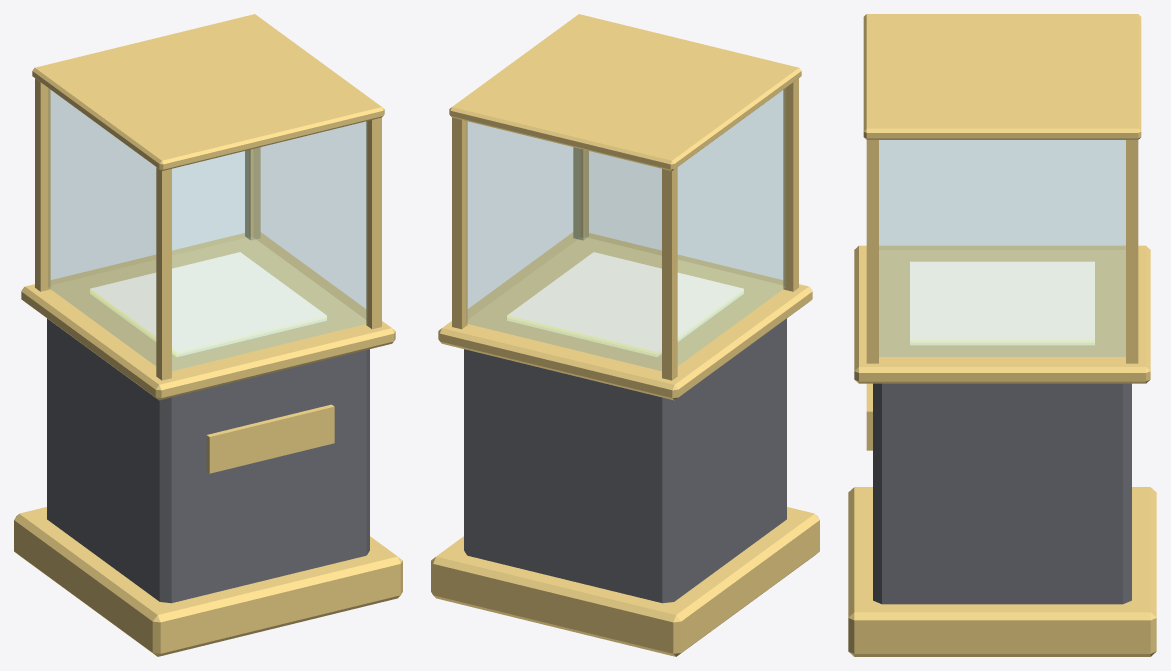
Rendered from lt_trophy_cr.glb.
3 views of the same model, side by side, from view 1: azimuth 30°, elevation 25°; view 2: azimuth 150°, elevation 25°; view 3: azimuth 270°, elevation 25° (orthographic). The views are drawn at different scales.
Visible parts, largest first — view 1: lt_trophy_cr; view 2: lt_trophy_cr; view 3: lt_trophy_cr.
Boxes of the visible parts, <box> form: lt_trophy_cr: <box>14,14,402,656</box>; lt_trophy_cr: <box>431,14,819,656</box>; lt_trophy_cr: <box>848,14,1156,656</box>.
Bounding box in the file's own units: 1 × 1.87 × 1.
